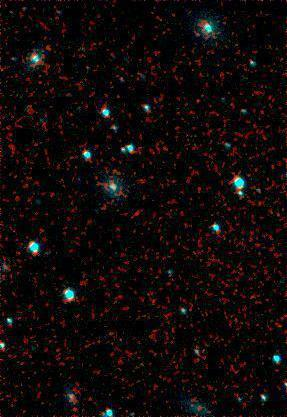star: (182, 16, 212, 46)
